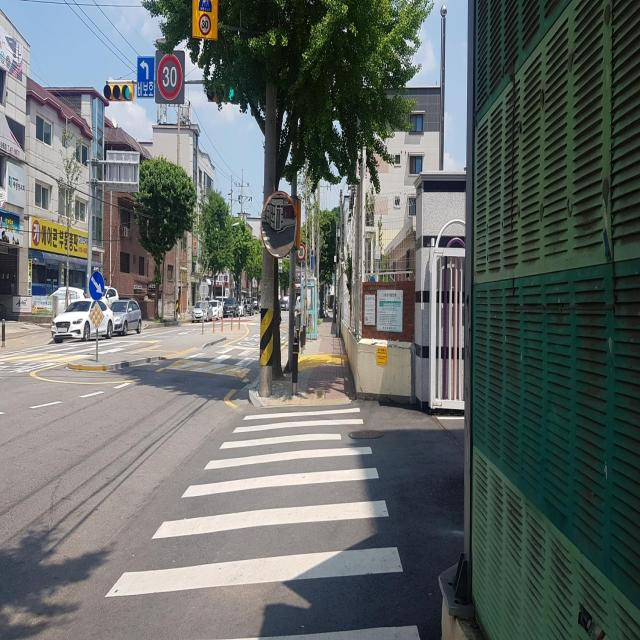횡단보도: (102, 402, 422, 640), (1, 342, 260, 373)
